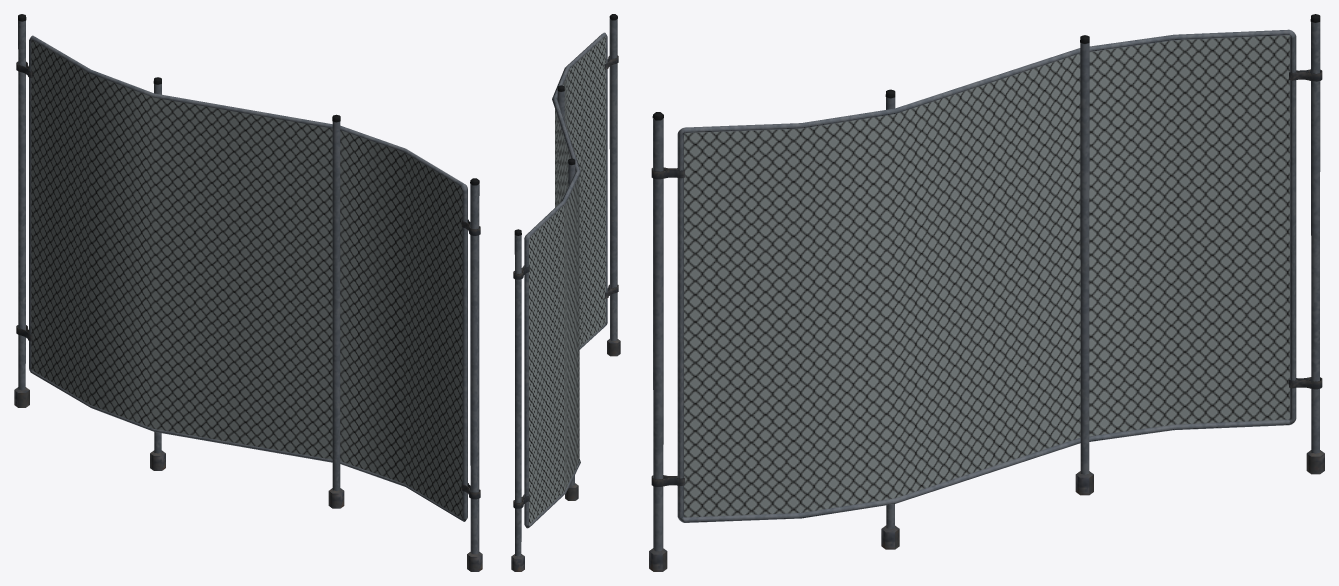
File: Fence_B_F.fbx
3 views of the same model, side by side, from view 1: azimuth 30°, elevation 25°; view 2: azimuth 150°, elevation 25°; view 3: azimuth 270°, elevation 25° (orthographic). The views are drawn at different scales.
Parts seen in each view (by area): view 1: Fence_B_F; view 2: Fence_B_F; view 3: Fence_B_F.
Part boxes in pixels (x1=…): Fence_B_F: x1=14, y1=14, x2=482, y2=571; Fence_B_F: x1=511, y1=14, x2=620, y2=571; Fence_B_F: x1=649, y1=14, x2=1324, y2=571.
Size of the model in its own units: 106 by 216 by 290.
